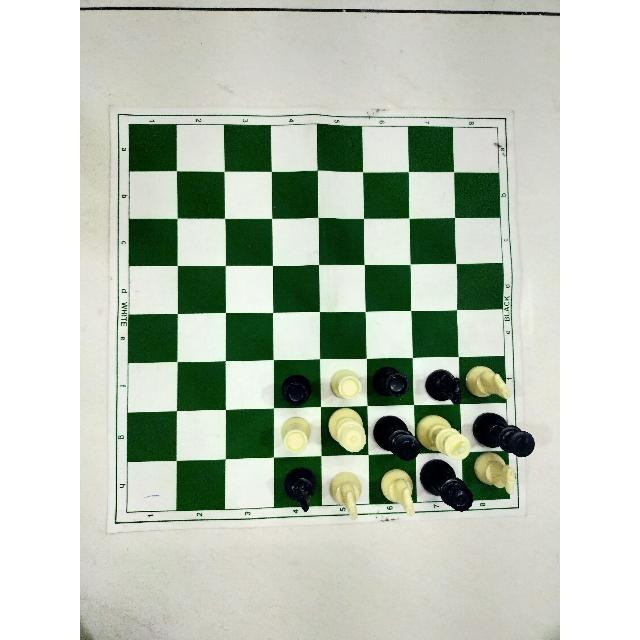black-king: (471, 411, 535, 458), (372, 414, 420, 461)
black-knight: (284, 467, 317, 513), (424, 368, 463, 406)
black-queen: (419, 458, 475, 512)
black-rook: (369, 364, 410, 398), (281, 374, 312, 408)
white-king: (416, 413, 472, 461)
white-knight: (473, 450, 516, 498), (379, 467, 416, 518), (464, 364, 511, 402), (330, 471, 362, 520)
white-queen: (327, 406, 367, 454)
white-rook: (279, 415, 310, 454), (329, 369, 363, 401)
